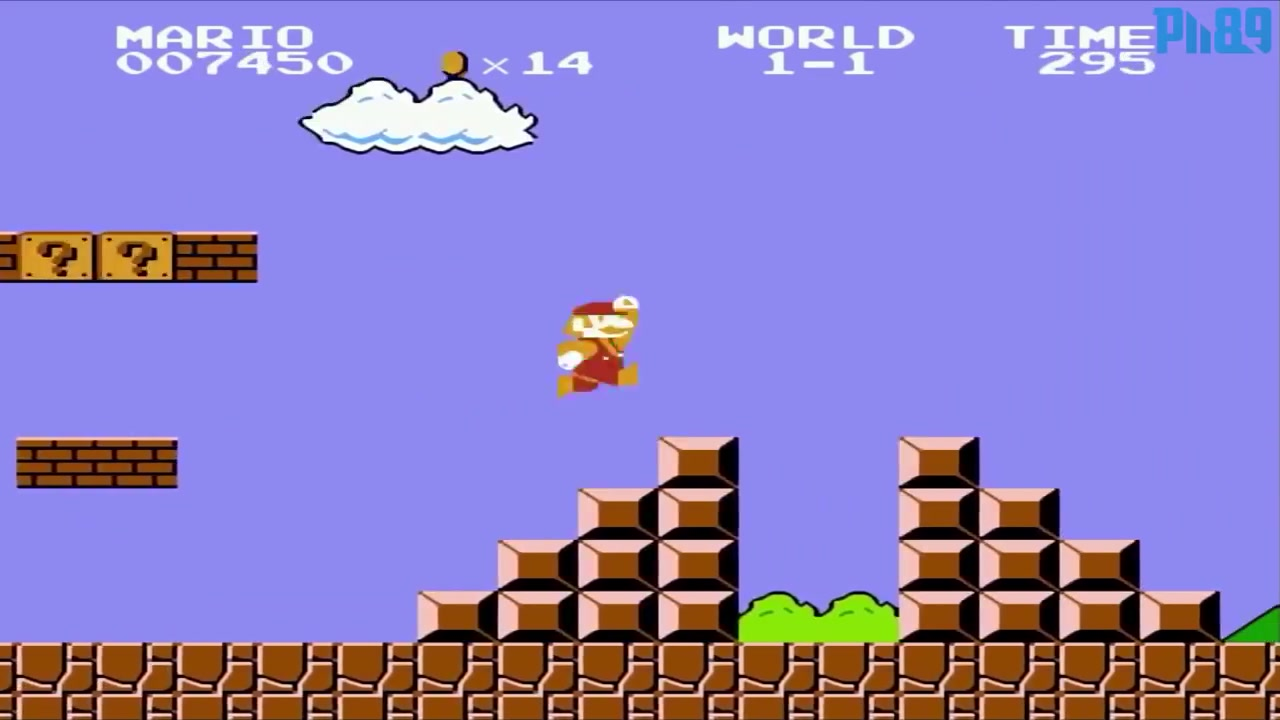mario: (543, 288, 647, 402)
